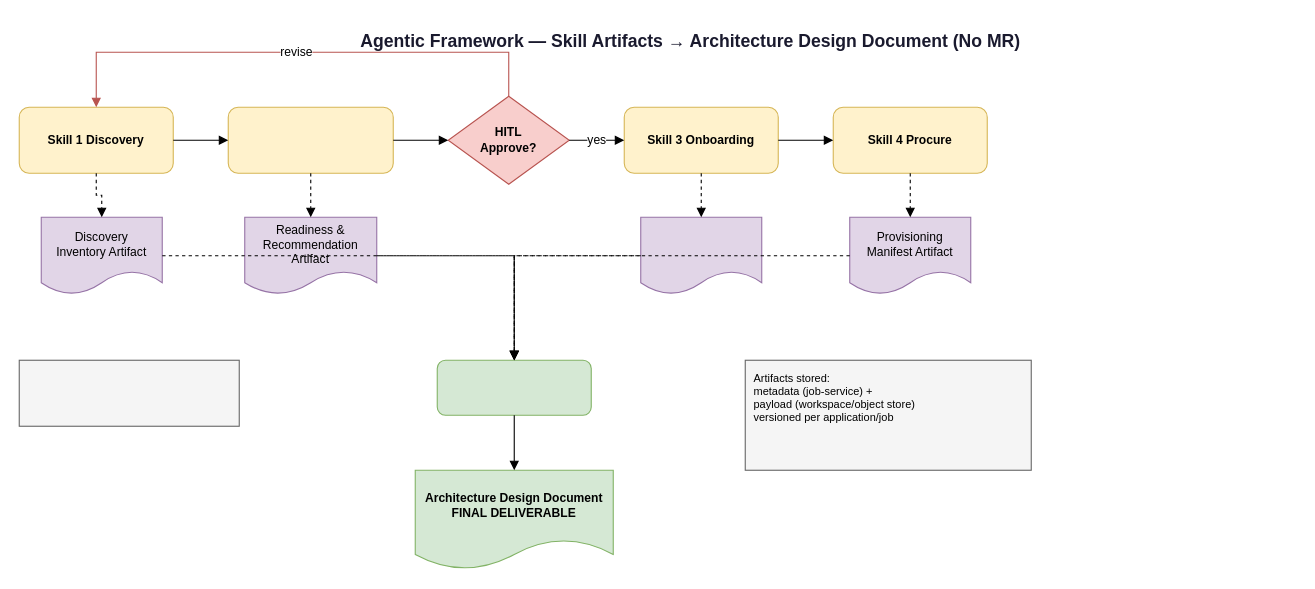
The diagram is 1315 pixels wide and 589 high, and some of its shapes have lost their labels. Each missing label, with the centre of its shape:
"Compose" belongs at [513,387].
"NO Merge Request in this process" belongs at [128,392].
"Onboarding Blueprint Artifact" belongs at [701,255].
"Skill 2 Recommendation" belongs at [310,139].
